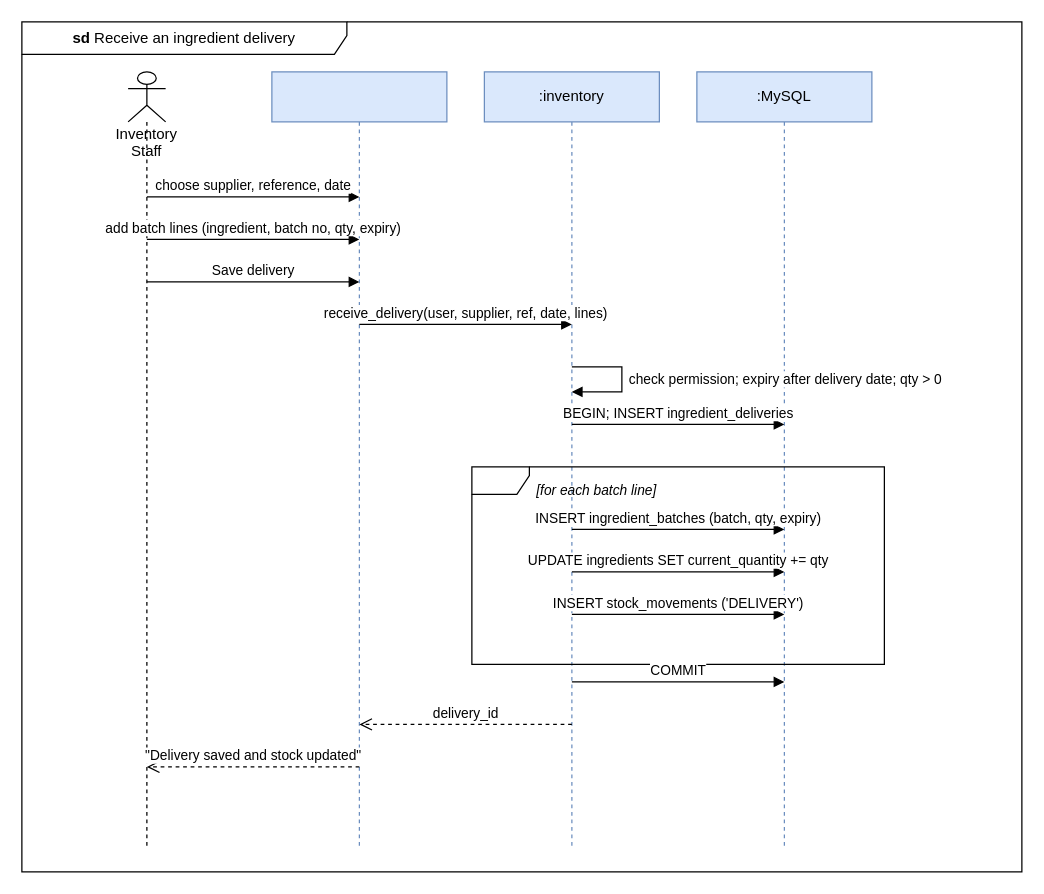
Image size: 1044x894. Some labels were removed from this diagram. Each missing label, with the box of its shape:
:DeliveryDialog: (271, 71, 447, 847)
loop: (471, 466, 884, 664)
